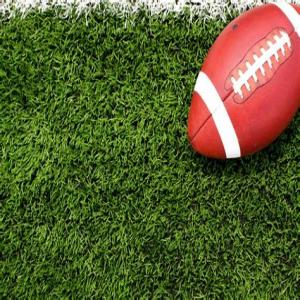Rugby: (186, 0, 300, 159)
